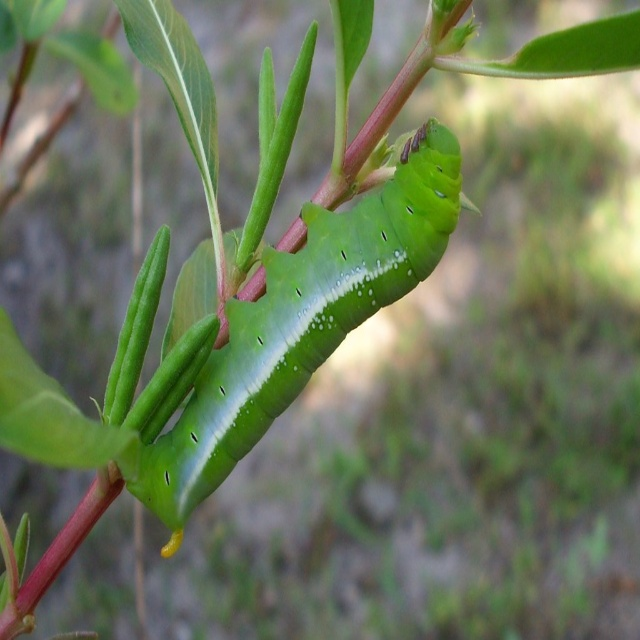Caterpillar: (126, 117, 463, 559)
